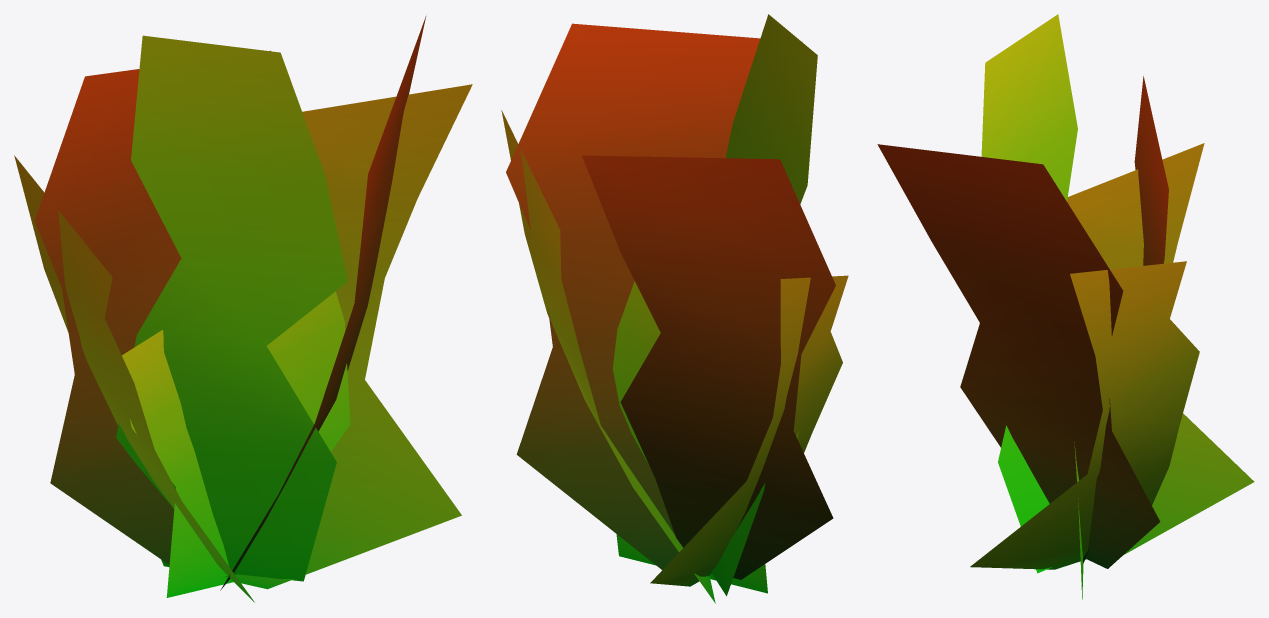
The model's file is Var8Hi4.fbx.
3 views of the same model, side by side, from view 1: azimuth 30°, elevation 25°; view 2: azimuth 150°, elevation 25°; view 3: azimuth 270°, elevation 25° (orthographic). The views are drawn at different scales.
Visible parts, largest first — view 1: bend1; view 2: bend1; view 3: bend1.
Boxes of the visible parts, <box> form: bend1: <box>14,16,472,602</box>; bend1: <box>501,14,848,603</box>; bend1: <box>877,14,1254,599</box>.
Bounding box in the file's own units: 1.27 × 1.76 × 1.2.
